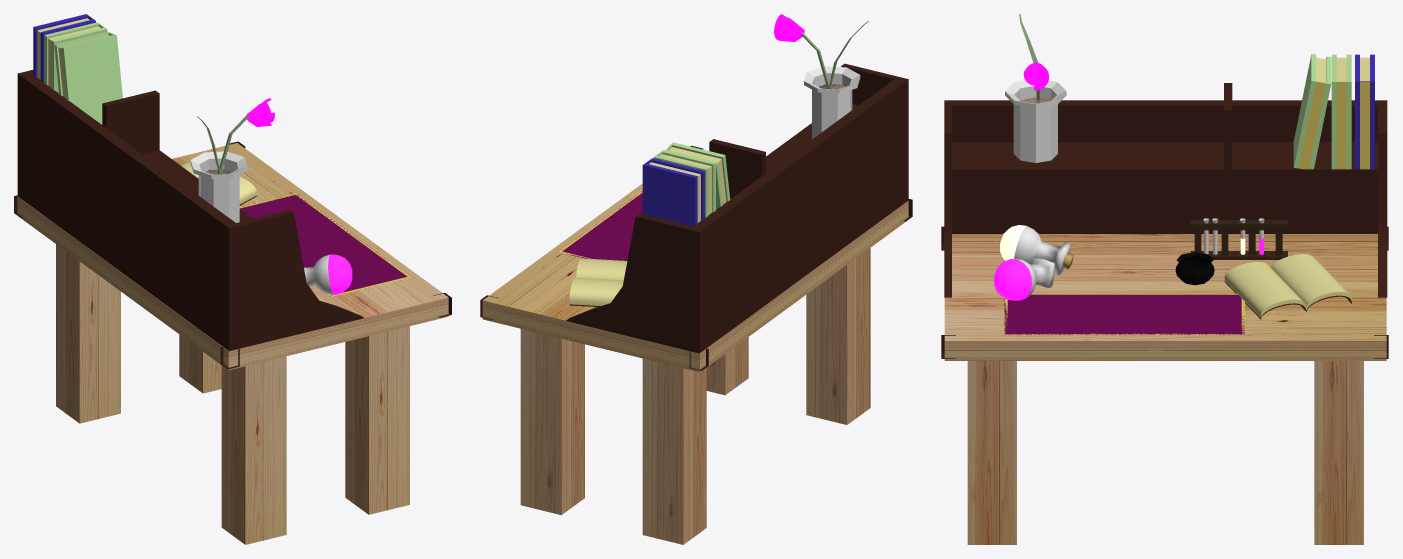
The model's file is 実験台ver.2.fbx.
3 views of the same model, side by side, from view 1: azimuth 30°, elevation 25°; view 2: azimuth 150°, elevation 25°; view 3: azimuth 270°, elevation 25° (orthographic). The views are drawn at different scales.
Visible parts, largest first — view 1: 机, 壁, 本２, 布, 花瓶, 瓶, 花; view 2: 机, 壁, 本２, 布, 花瓶, 本, 花; view 3: 机, 壁, 布, 本２, 本, 花瓶, 薬台, 瓶, 瓶２, 容器, 花, 試験管.
Part boxes in pixels (x1,y1,x2,y2): 机: [17, 143, 448, 544]; 壁: [17, 70, 364, 351]; 本２: [33, 14, 122, 124]; 布: [239, 193, 411, 296]; 花瓶: [190, 151, 247, 222]; 瓶: [304, 254, 352, 294]; 花: [197, 98, 274, 174]; 机: [482, 183, 908, 544]; 壁: [566, 63, 908, 353]; 本２: [642, 142, 730, 226]; 布: [558, 191, 642, 260]; 花瓶: [804, 66, 860, 139]; 本: [569, 258, 627, 306]; 花: [774, 14, 868, 89]; 机: [944, 234, 1386, 544]; 壁: [944, 83, 1387, 297]; 布: [1004, 293, 1245, 334]; 本２: [1293, 54, 1374, 169]; 本: [1224, 254, 1351, 319]; 花瓶: [1005, 80, 1066, 162]; 薬台: [1190, 220, 1287, 259]; 瓶: [994, 257, 1054, 300]; 瓶２: [1000, 225, 1073, 275]; 容器: [1175, 252, 1214, 285]; 花: [1019, 14, 1048, 103]; 試験管: [1203, 218, 1264, 254].
Bounding box in the file's own units: 556 × 986 × 919.
